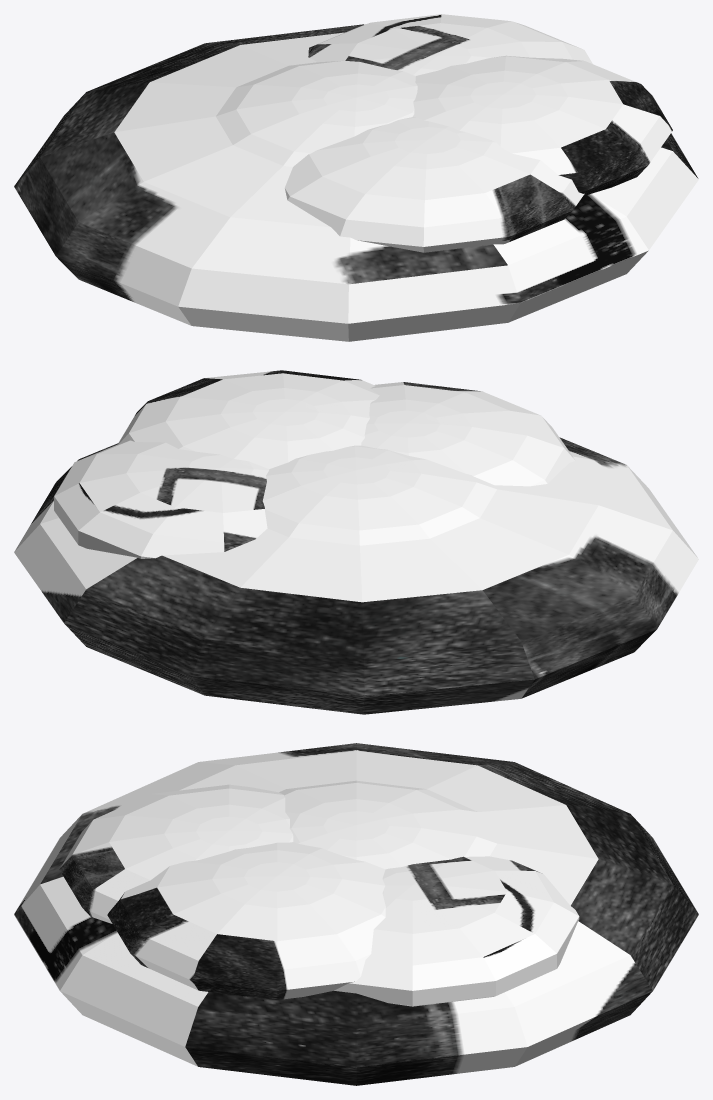
File: paso 7 - copia.fbx
3 views of the same model, one above another, from view 1: azimuth 30°, elevation 25°; view 2: azimuth 150°, elevation 25°; view 3: azimuth 270°, elevation 25° (orthographic). The views are drawn at different scales.
Visible parts, largest first — view 1: paso_7-vf; view 2: paso_7-vf; view 3: paso_7-vf.
Boxes of the visible parts, x1,y1,x2,y2 form: paso_7-vf: [14, 14, 698, 341]; paso_7-vf: [14, 370, 698, 714]; paso_7-vf: [14, 743, 698, 1085].
Size of the model in its own units: 212 by 55.45 by 200.
